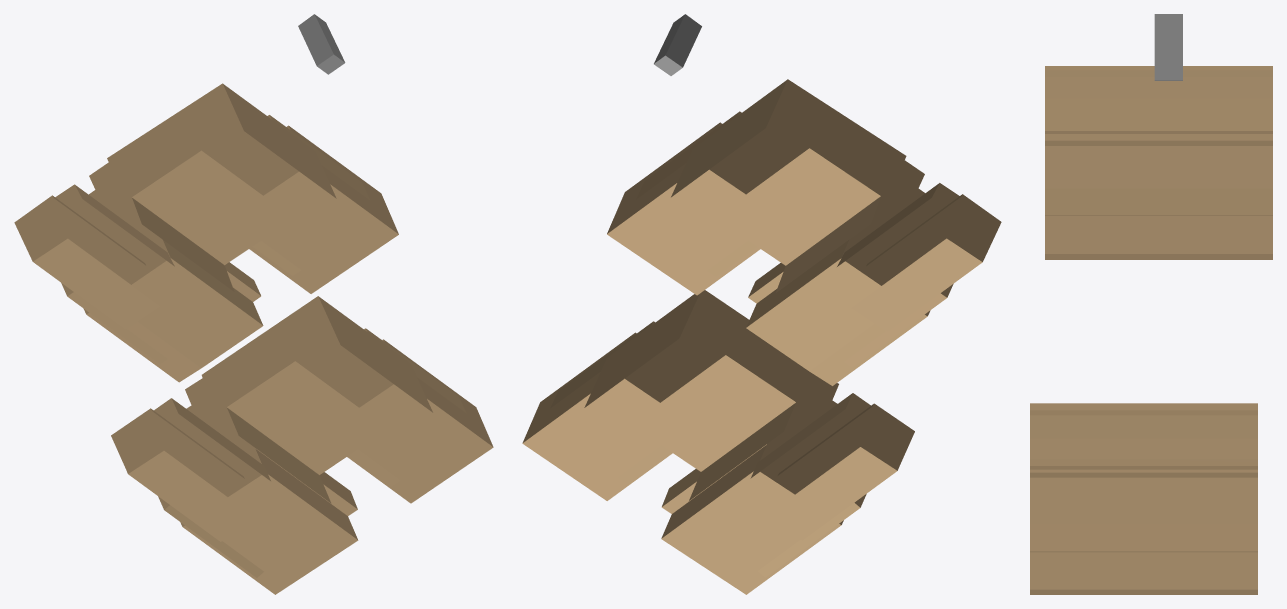
3 views of the same model, side by side, from view 1: azimuth 30°, elevation 25°; view 2: azimuth 150°, elevation 25°; view 3: azimuth 270°, elevation 25° (orthographic). The views are drawn at different scales.
Parts seen in each view (by area): view 1: 0_1_3_2_1_2_1_3; view 2: 0_1_3_2_1_2_1_3; view 3: 0_1_3_2_1_2_1_3.
Boxes of the visible parts, x1,y1,x2,y2 form: 0_1_3_2_1_2_1_3: (14, 14, 493, 594); 0_1_3_2_1_2_1_3: (522, 14, 1001, 594); 0_1_3_2_1_2_1_3: (1030, 14, 1272, 594).
Bounding box in the file's own units: 56.8 × 72.85 × 25.59.
